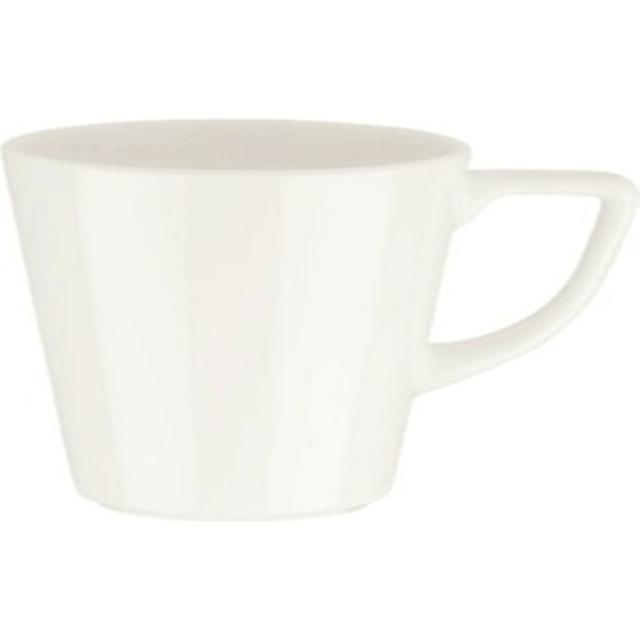Coffee Mug: (2, 114, 640, 519)
